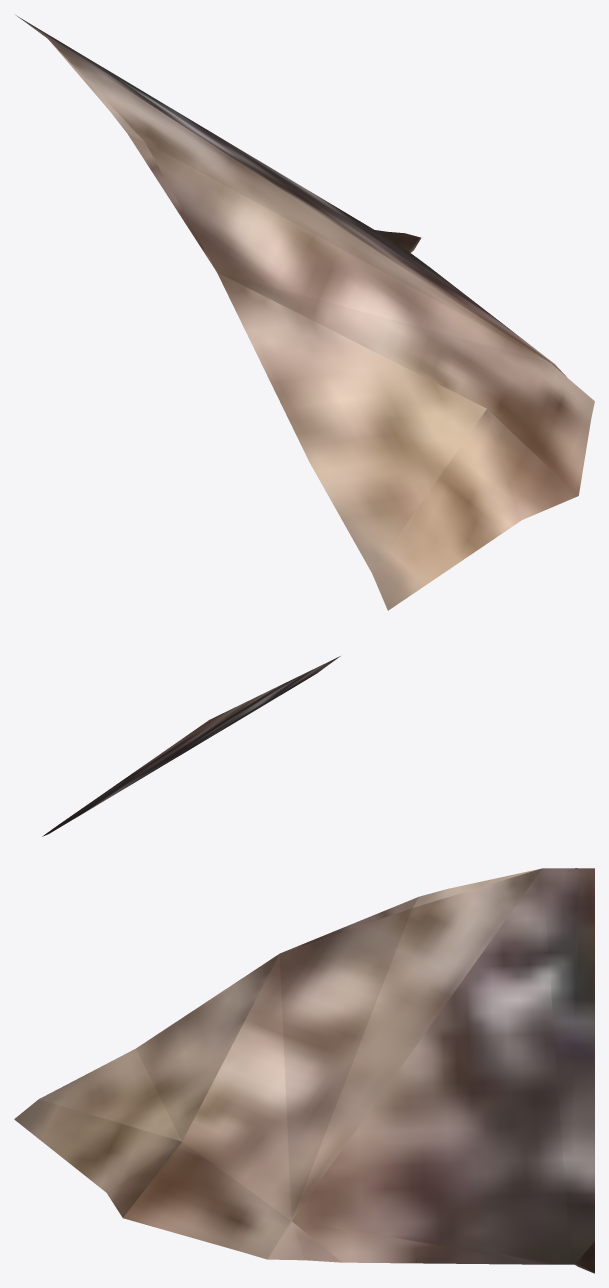
3 renders of one model, top to bottom at view 1: azimuth 30°, elevation 25°; view 2: azimuth 150°, elevation 25°; view 3: azimuth 270°, elevation 25°, orthographic. The views are drawn at different scales.
Size of the model in its own units: 0.0999 by 0.0757 by 0.1588.
1 material, 1 textured.
